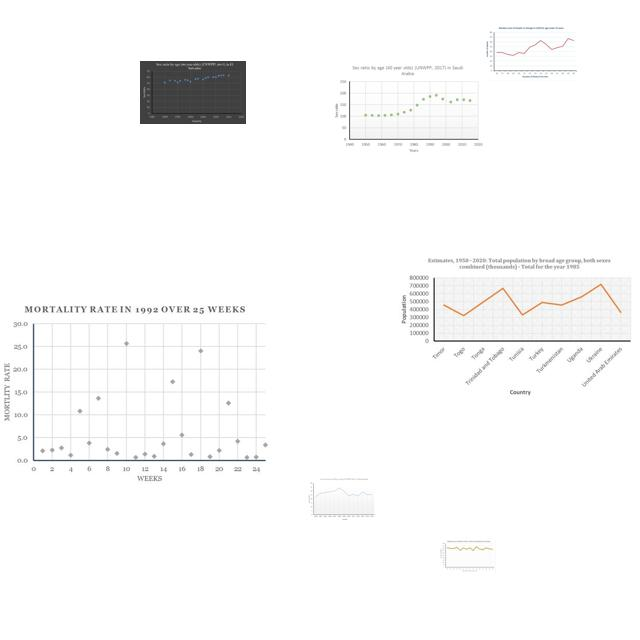Graph: (0, 301, 271, 485), (395, 254, 635, 397), (329, 62, 484, 153), (140, 61, 246, 124), (484, 25, 579, 81), (307, 477, 375, 521), (439, 539, 496, 573)
